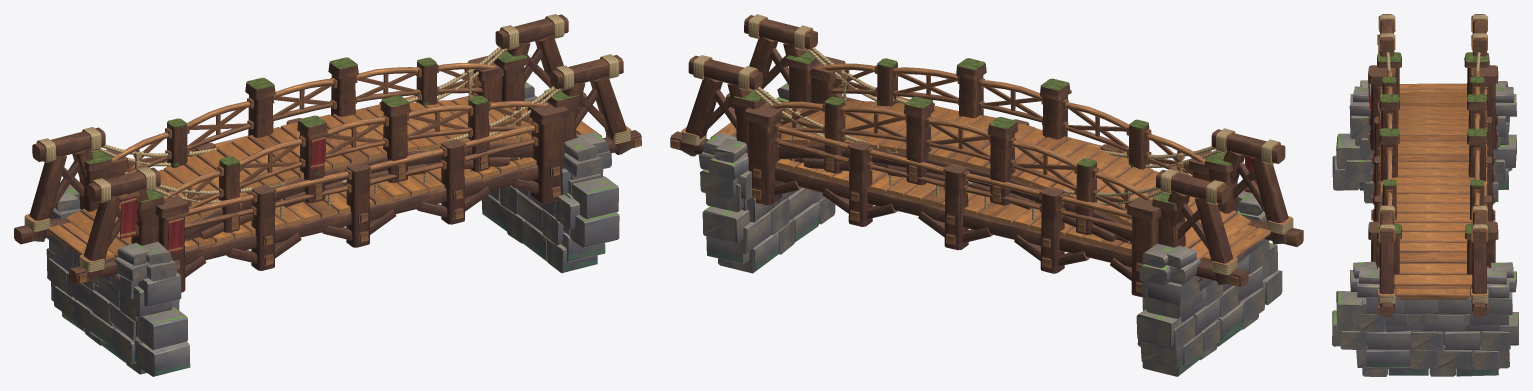
File: Woodbridge_B.glb
3 views of the same model, side by side, from view 1: azimuth 30°, elevation 25°; view 2: azimuth 150°, elevation 25°; view 3: azimuth 270°, elevation 25° (orthographic). The views are drawn at different scales.
Parts seen in each view (by area): view 1: BridgeLattice, BridgeChunky, BridgeRope; view 2: BridgeLattice, BridgeChunky, BridgeRope; view 3: BridgeLattice, BridgeChunky, BridgeRope.
Part boxes in pixels (<box>): BridgeLattice: <box>47,49,611,363</box>; BridgeChunky: <box>46,56,619,376</box>; BridgeRope: <box>14,14,641,374</box>; BridgeLattice: <box>698,50,1266,366</box>; BridgeChunky: <box>702,56,1282,368</box>; BridgeRope: <box>670,14,1303,376</box>; BridgeLattice: <box>1340,52,1512,369</box>; BridgeChunky: <box>1332,65,1518,369</box>; BridgeRope: <box>1345,14,1505,376</box>.
Bounding box in the file's own units: 47.61 × 15.99 × 16.12.
3 materials, 3 textured.
